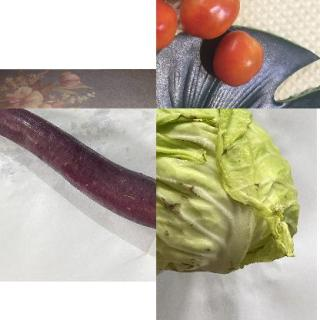Tomat: (157, 1, 268, 94)
